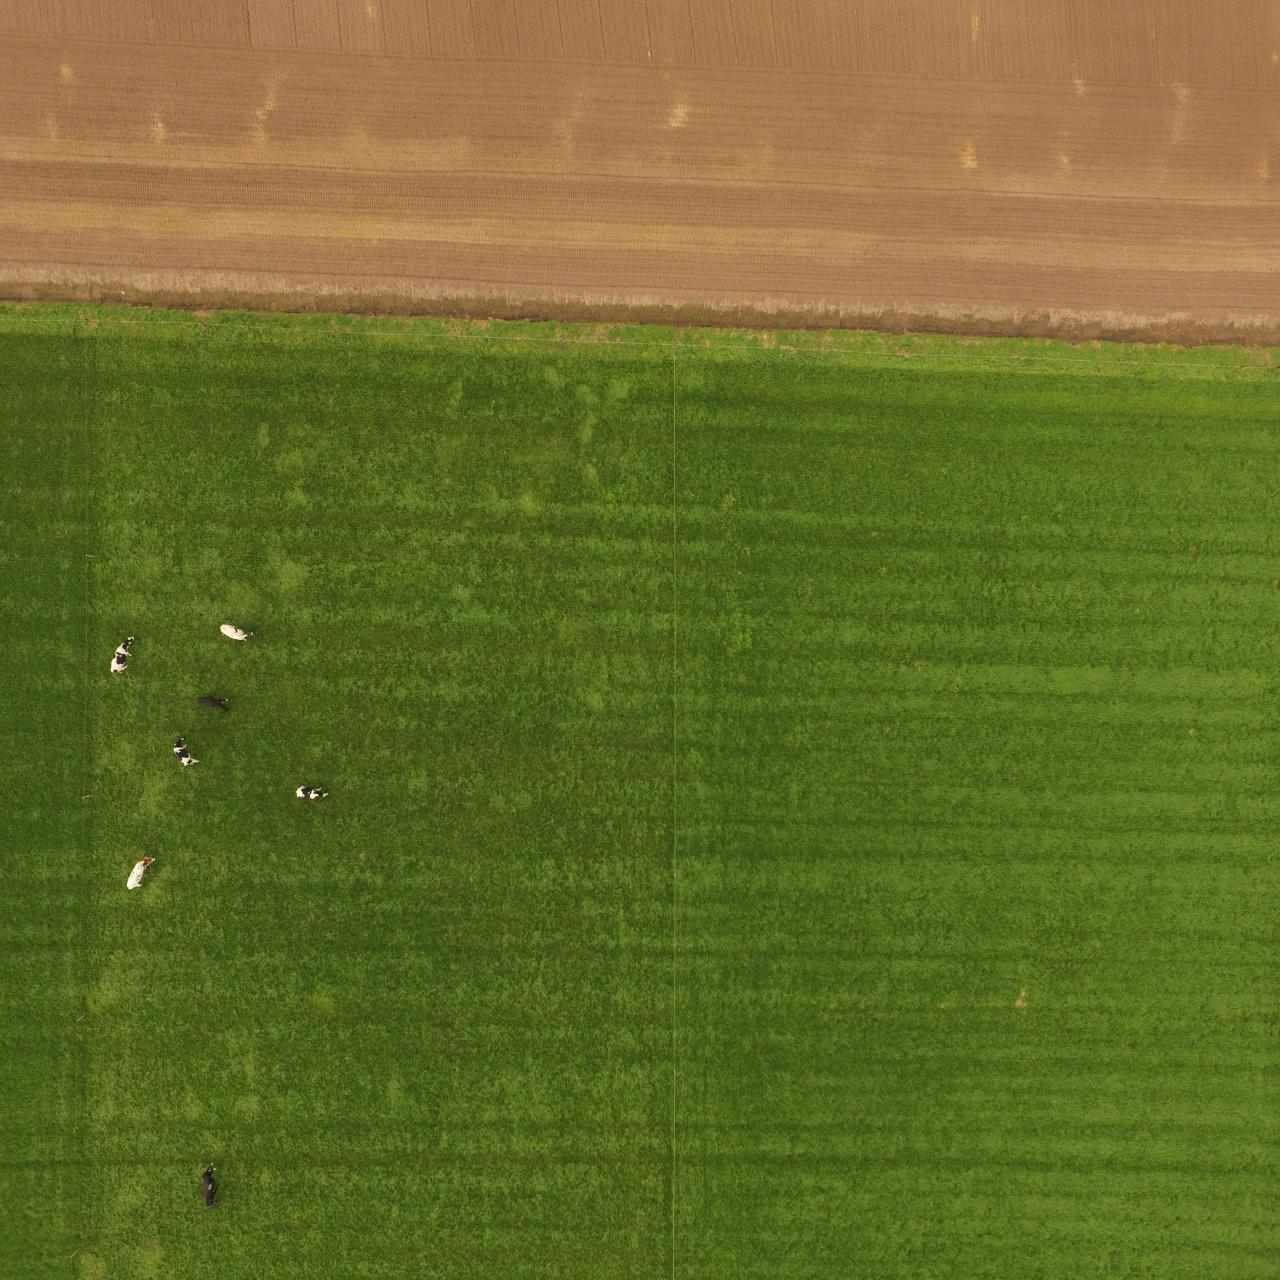cow: (123, 852, 157, 893), (200, 1159, 222, 1218), (109, 634, 136, 678), (171, 733, 200, 770), (218, 622, 258, 642), (195, 694, 232, 713), (294, 784, 334, 802)
